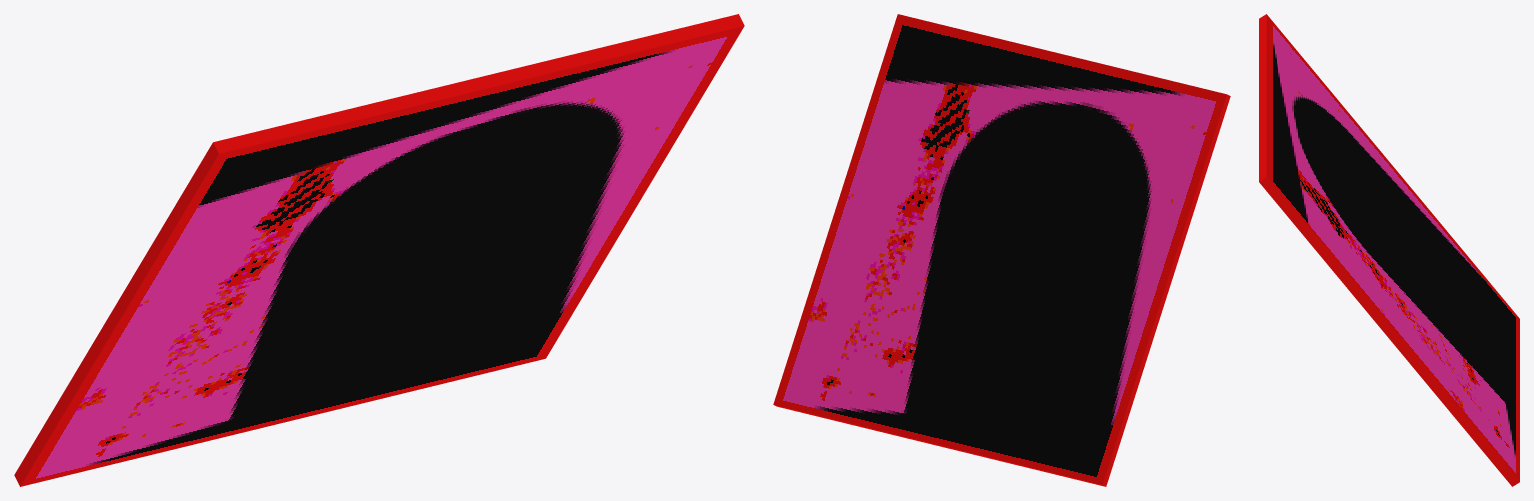
The model's file is ps2_save-icons_tonyhawksamericanwasteland-tricks.glb.
The picture shows the model from 3 angles, left to right: view 1: azimuth 30°, elevation 25°; view 2: azimuth 150°, elevation 25°; view 3: azimuth 270°, elevation 25°; orthographic projection. The views are drawn at different scales.
Parts seen in each view (by area): view 1: tricks.ico; view 2: tricks.ico; view 3: tricks.ico.
Boxes of the visible parts, bbox=[...] form: tricks.ico: bbox=[14, 14, 744, 486]; tricks.ico: bbox=[773, 14, 1230, 486]; tricks.ico: bbox=[1259, 14, 1519, 486].
Bounding box in the file's own units: 3.22 × 2.84 × 2.17.
1 material, 1 textured.
